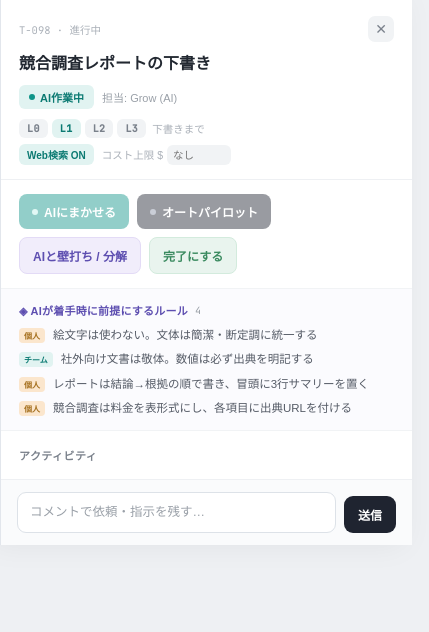
it: Composer: Enter=送信 / Shift+Enter=改行（§00 #11） › Enter で送信し、入力をクリアして POST する
Type "比較表を追加してください" into the text box with placeholder "コメントで依頼・指示を残す…". click: (176, 513)
box: [17,492,336,533]
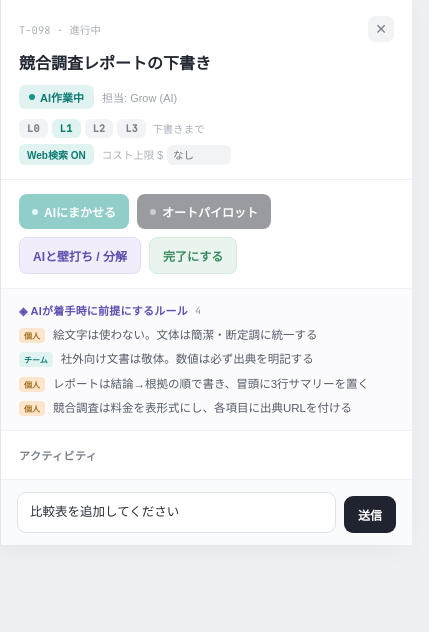
Press Enter in the text box with placeholder "コメントで依頼・指示を残す…", box [17,492,336,533]
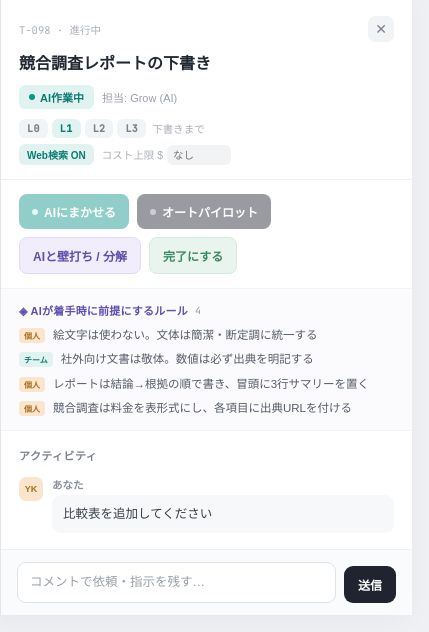
Result: the text "比較表を追加してください" is shown at [52,495,394,533]
Result: the text box with placeholder "コメントで依頼・指示を残す…" is empty at [17,562,336,603]
